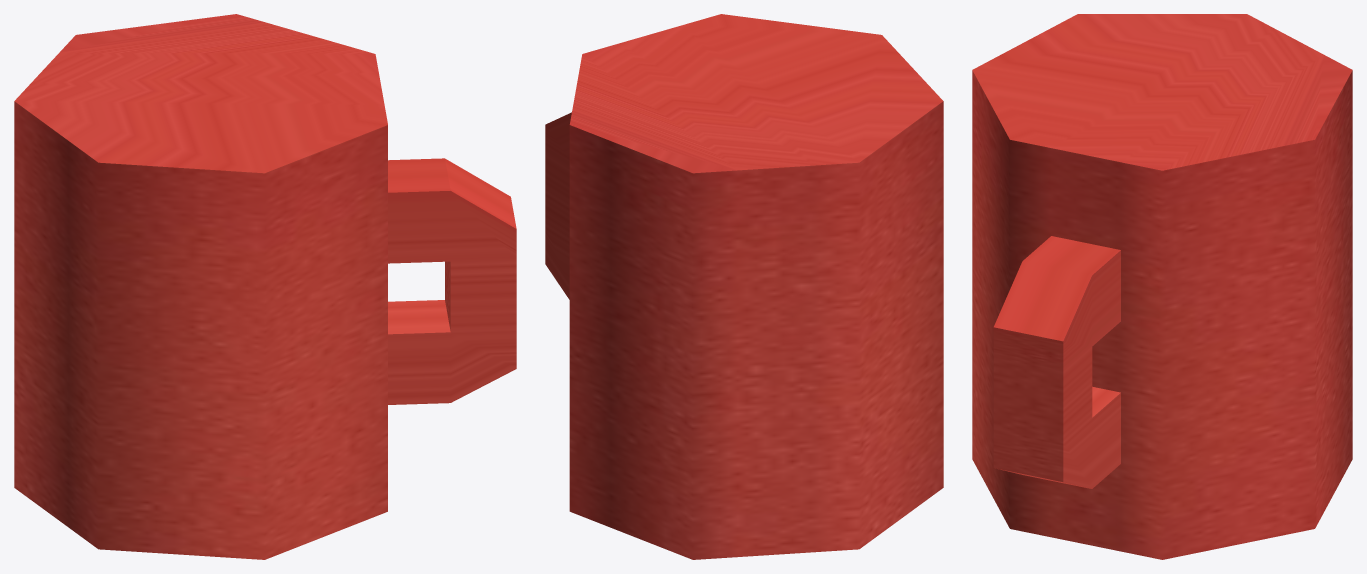
The model's file is mug.FBX.
The picture shows the model from 3 angles, left to right: view 1: azimuth 30°, elevation 25°; view 2: azimuth 150°, elevation 25°; view 3: azimuth 270°, elevation 25°; orthographic projection.
Parts seen in each view (by area): view 1: Cylinder001; view 2: Cylinder001; view 3: Cylinder001.
Boxes of the visible parts, x1=… form: Cylinder001: x1=14, y1=14, x2=516, y2=559; Cylinder001: x1=545, y1=14, x2=943, y2=559; Cylinder001: x1=972, y1=14, x2=1352, y2=559.
Bounding box in the file's own units: 54.13 × 49.35 × 43.73.
Materials: 3 (3 with a texture image).
